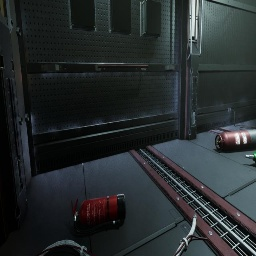0: (244, 151, 256, 164)
FireExtinguisher ]: (71, 194, 126, 235)
NitrogenTank ,: (215, 129, 256, 152)
